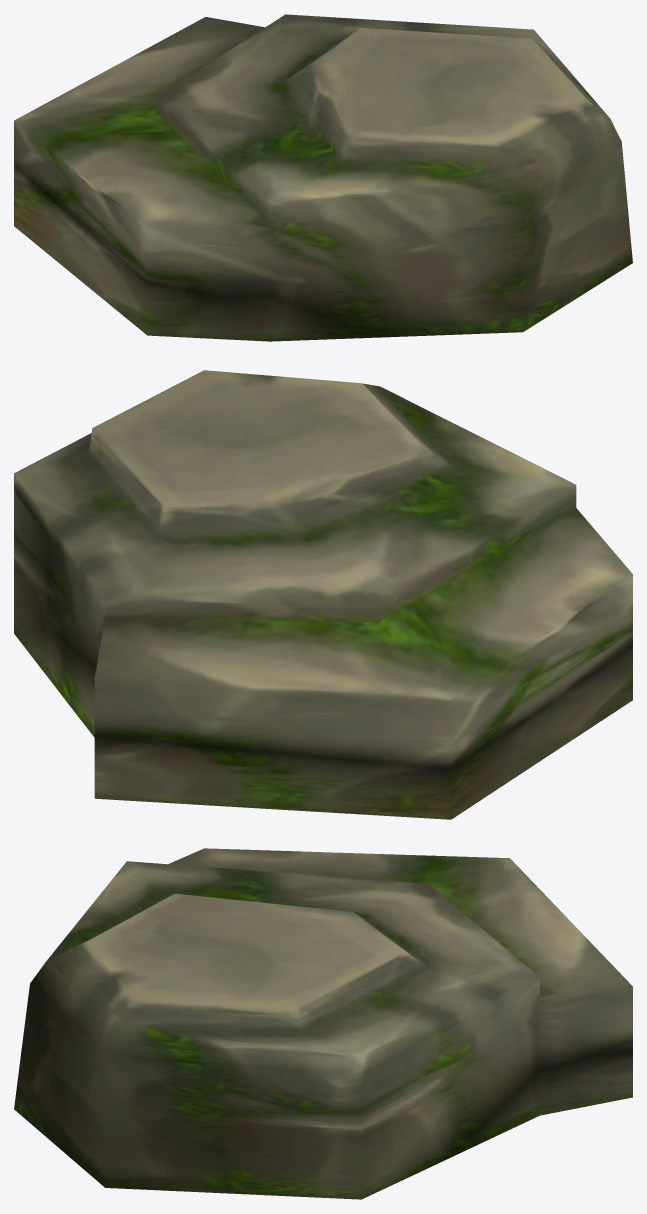
Rendered from RockFormation_4_5 (22).fbx.
3 renders of one model, top to bottom at view 1: azimuth 30°, elevation 25°; view 2: azimuth 150°, elevation 25°; view 3: azimuth 270°, elevation 25°, orthographic. The views are drawn at different scales.
Parts seen in each view (by area): view 1: RockFormation_4_5 (22); view 2: RockFormation_4_5 (22); view 3: RockFormation_4_5 (22).
Boxes of the visible parts, left/top/right/bottom form: RockFormation_4_5 (22): left=14, top=14, right=632, bottom=341; RockFormation_4_5 (22): left=14, top=370, right=632, bottom=819; RockFormation_4_5 (22): left=14, top=848, right=632, bottom=1199.
Size of the model in its own units: 727 by 245 by 804.
